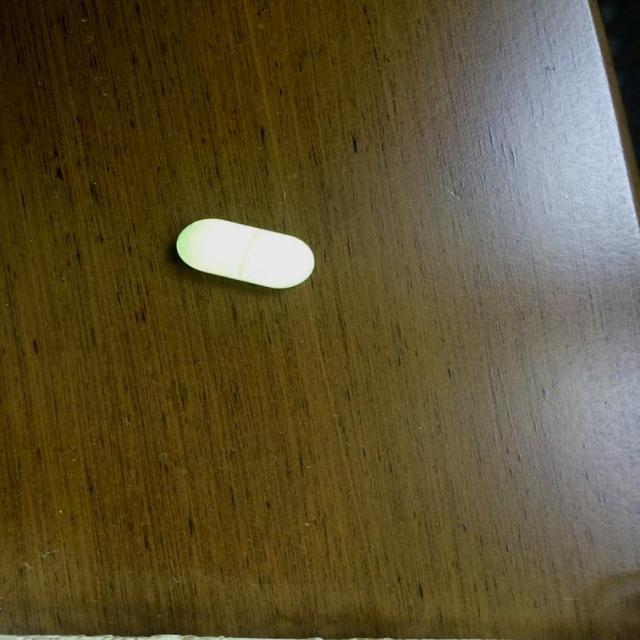pill: (174, 212, 322, 292)
